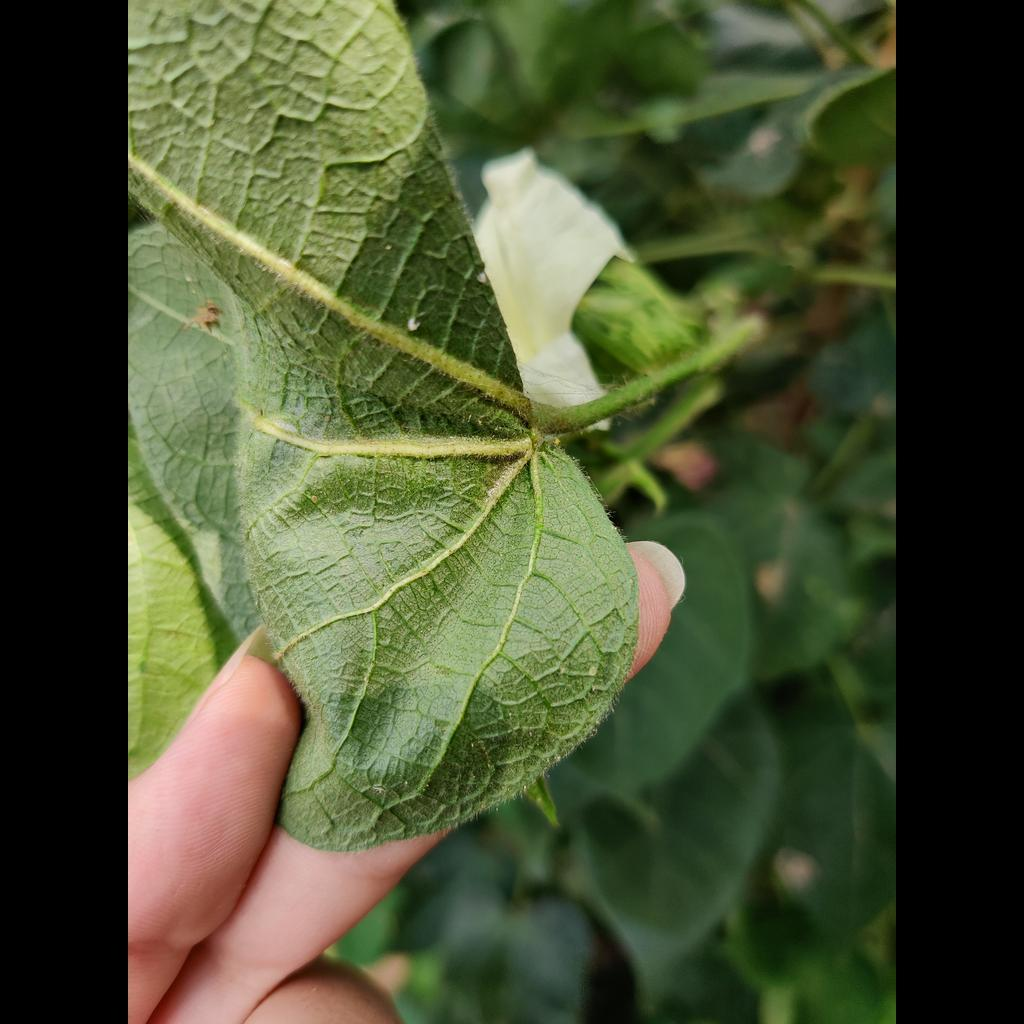adult: (408, 317, 420, 331), (477, 272, 487, 283)
nymph: (384, 244, 392, 251)
